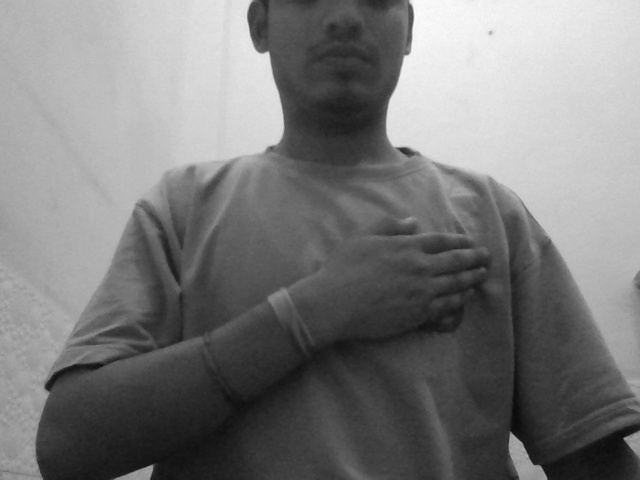Sorry: (292, 210, 509, 354)
